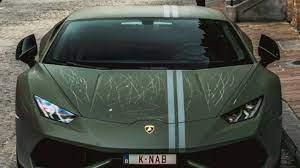bonnet-dent: (34, 63, 270, 134)
